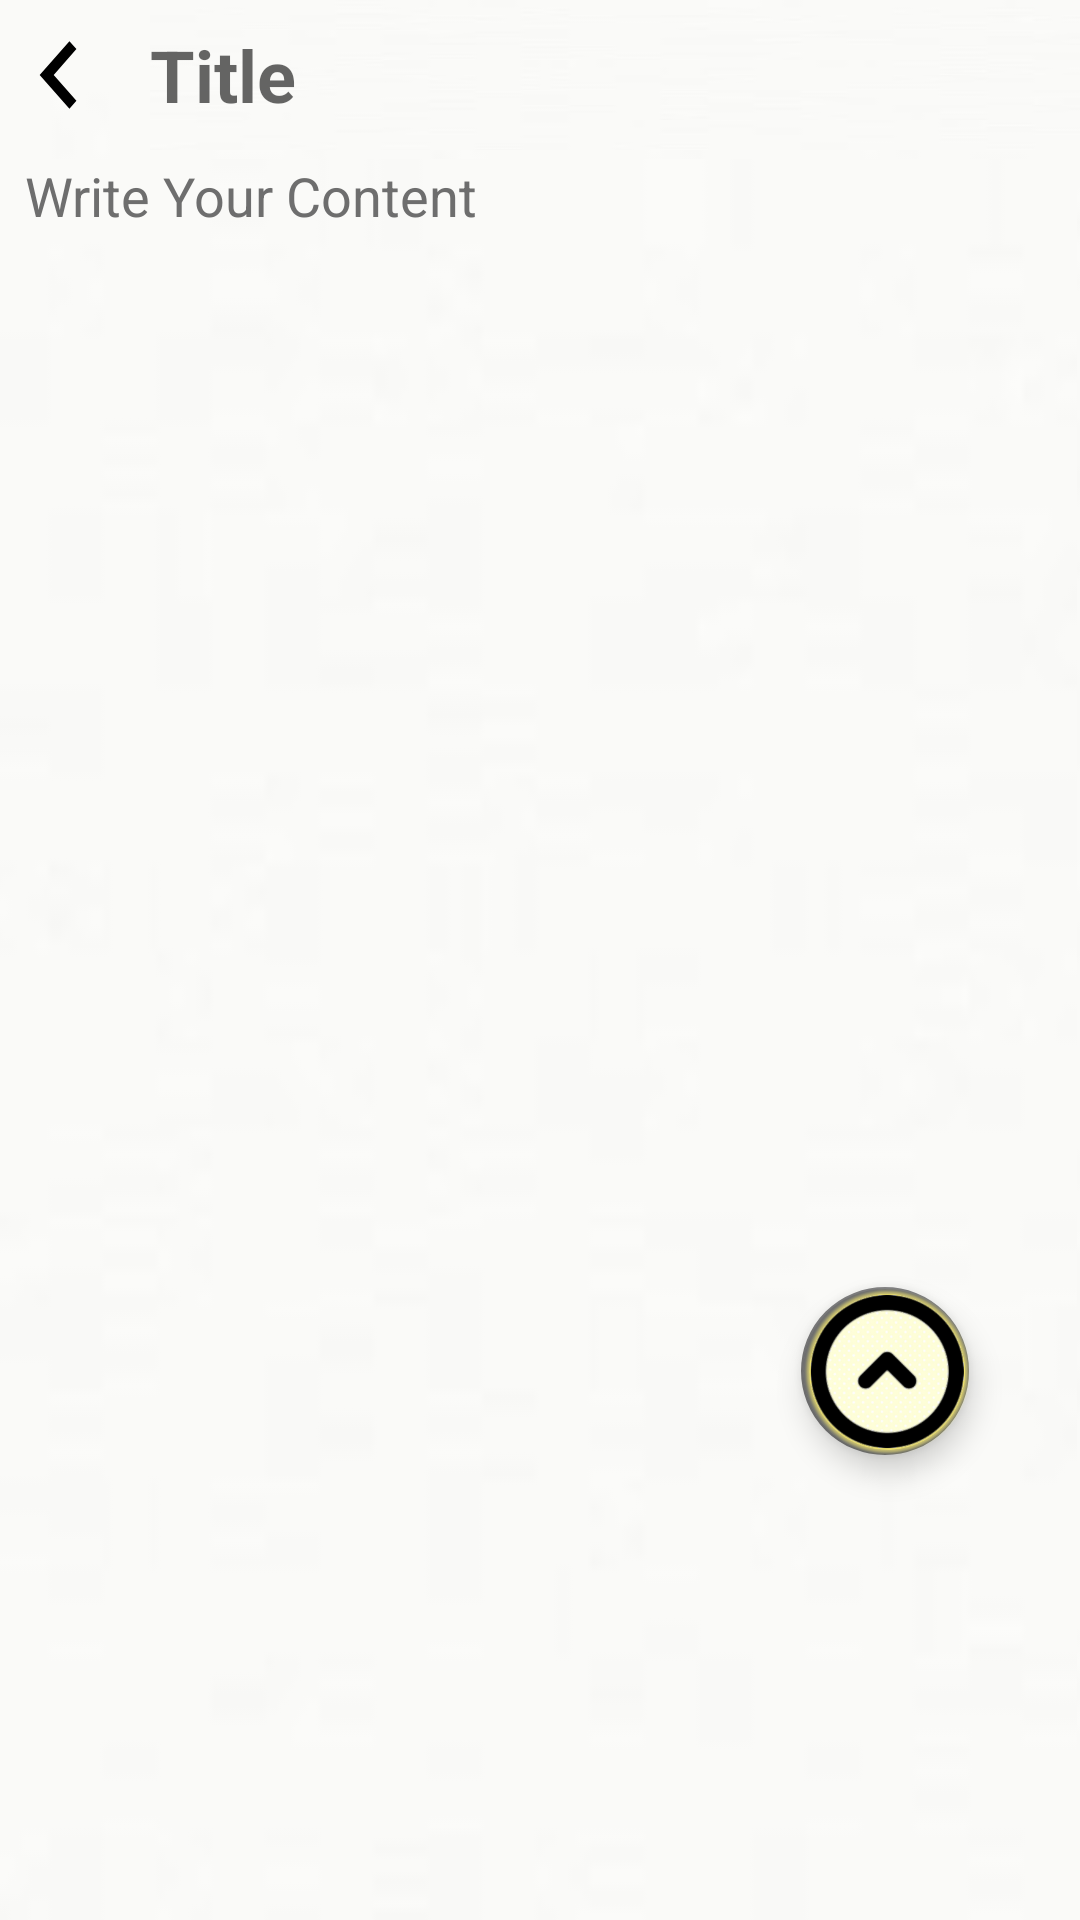

Named icons in this screenshot (1080×1920) and their centers, [x,y]:
arrowupbtn: [885,1371]
